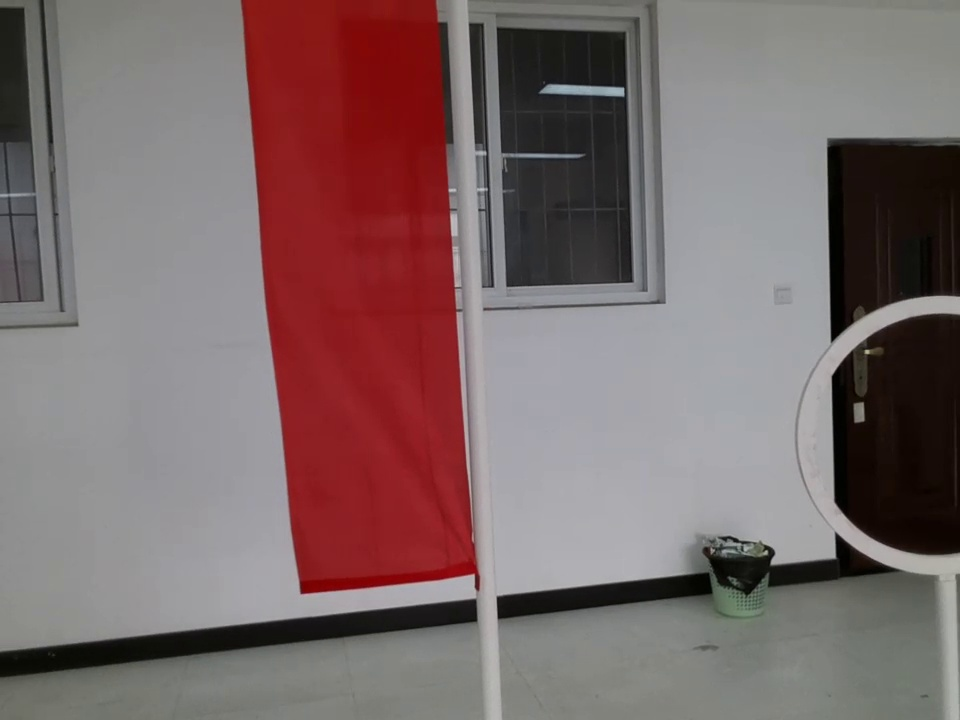qi: (220, 1, 496, 609)
quan: (784, 289, 960, 595)
